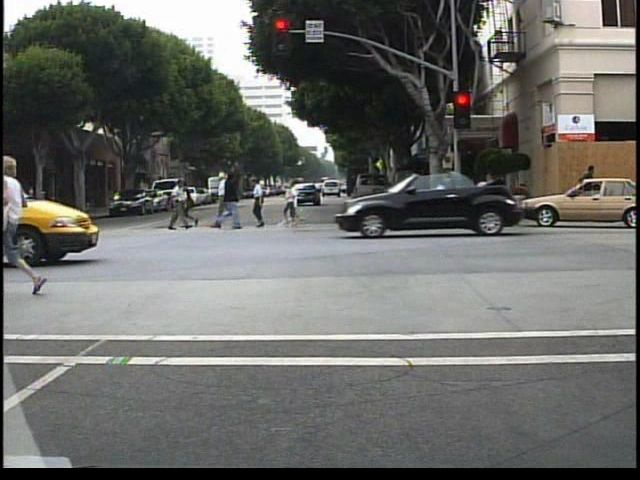person: (5, 148, 62, 294), (12, 192, 47, 240), (164, 174, 191, 232), (216, 169, 241, 230), (218, 170, 242, 233), (576, 160, 599, 219), (250, 176, 275, 230), (19, 182, 42, 236), (182, 180, 201, 232)
